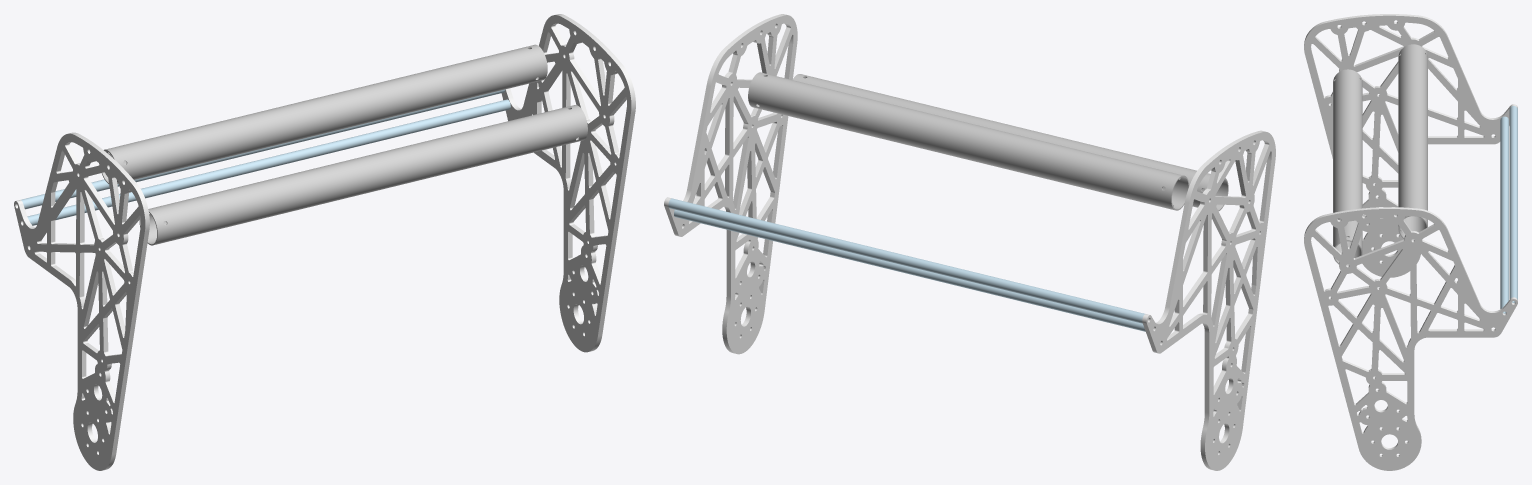
3 views of the same model, side by side, from view 1: azimuth 30°, elevation 25°; view 2: azimuth 150°, elevation 25°; view 3: azimuth 270°, elevation 25° (orthographic). The views are drawn at different scales.
Visible parts, largest first — view 1: Plate Intakeä¾§æ¿, Plate Intake ä¾§æ¿2, Roller 39*42*571.45, Roller 39*42*571.001, Tube-5*12*639.8-M6-AL.001, Tube-5*12*639.8-M6-AL; view 2: Plate Intakeä¾§æ¿, Plate Intake ä¾§æ¿2, Roller 39*42*571.001, Tube-5*12*639.8-M6-AL, Roller 39*42*571.45, Tube-5*12*639.8-M6-AL.001; view 3: Plate Intake ä¾§æ¿2, Plate Intakeä¾§æ¿, Roller 39*42*571.001, Roller 39*42*571.45, Tube-5*12*639.8-M6-AL, Tube-5*12*639.8-M6-AL.001.
Part boxes in pixels (<box>): Plate Intakeä¾§æ¿: <box>14,132,149,470</box>; Plate Intake ä¾§æ¿2: <box>501,14,635,352</box>; Roller 39*42*571.45: <box>139,105,587,245</box>; Roller 39*42*571.001: <box>101,44,547,183</box>; Tube-5*12*639.8-M6-AL.001: <box>27,99,510,225</box>; Tube-5*12*639.8-M6-AL: <box>21,89,505,209</box>; Plate Intakeä¾§æ¿: <box>1142,130,1275,470</box>; Plate Intake ä¾§æ¿2: <box>664,14,797,354</box>; Roller 39*42*571.001: <box>748,72,1189,210</box>; Tube-5*12*639.8-M6-AL: <box>668,198,1144,323</box>; Roller 39*42*571.45: <box>792,74,1228,211</box>; Tube-5*12*639.8-M6-AL.001: <box>674,209,1145,331</box>; Plate Intake ä¾§æ¿2: <box>1304,207,1517,470</box>; Plate Intakeä¾§æ¿: <box>1304,14,1517,277</box>; Roller 39*42*571.001: <box>1398,44,1427,240</box>; Roller 39*42*571.45: <box>1333,69,1362,265</box>; Tube-5*12*639.8-M6-AL: <box>1509,106,1517,302</box>; Tube-5*12*639.8-M6-AL.001: <box>1500,116,1508,313</box>.
Size of the model in its own units: 0.6518 by 0.4085 by 0.3023.
